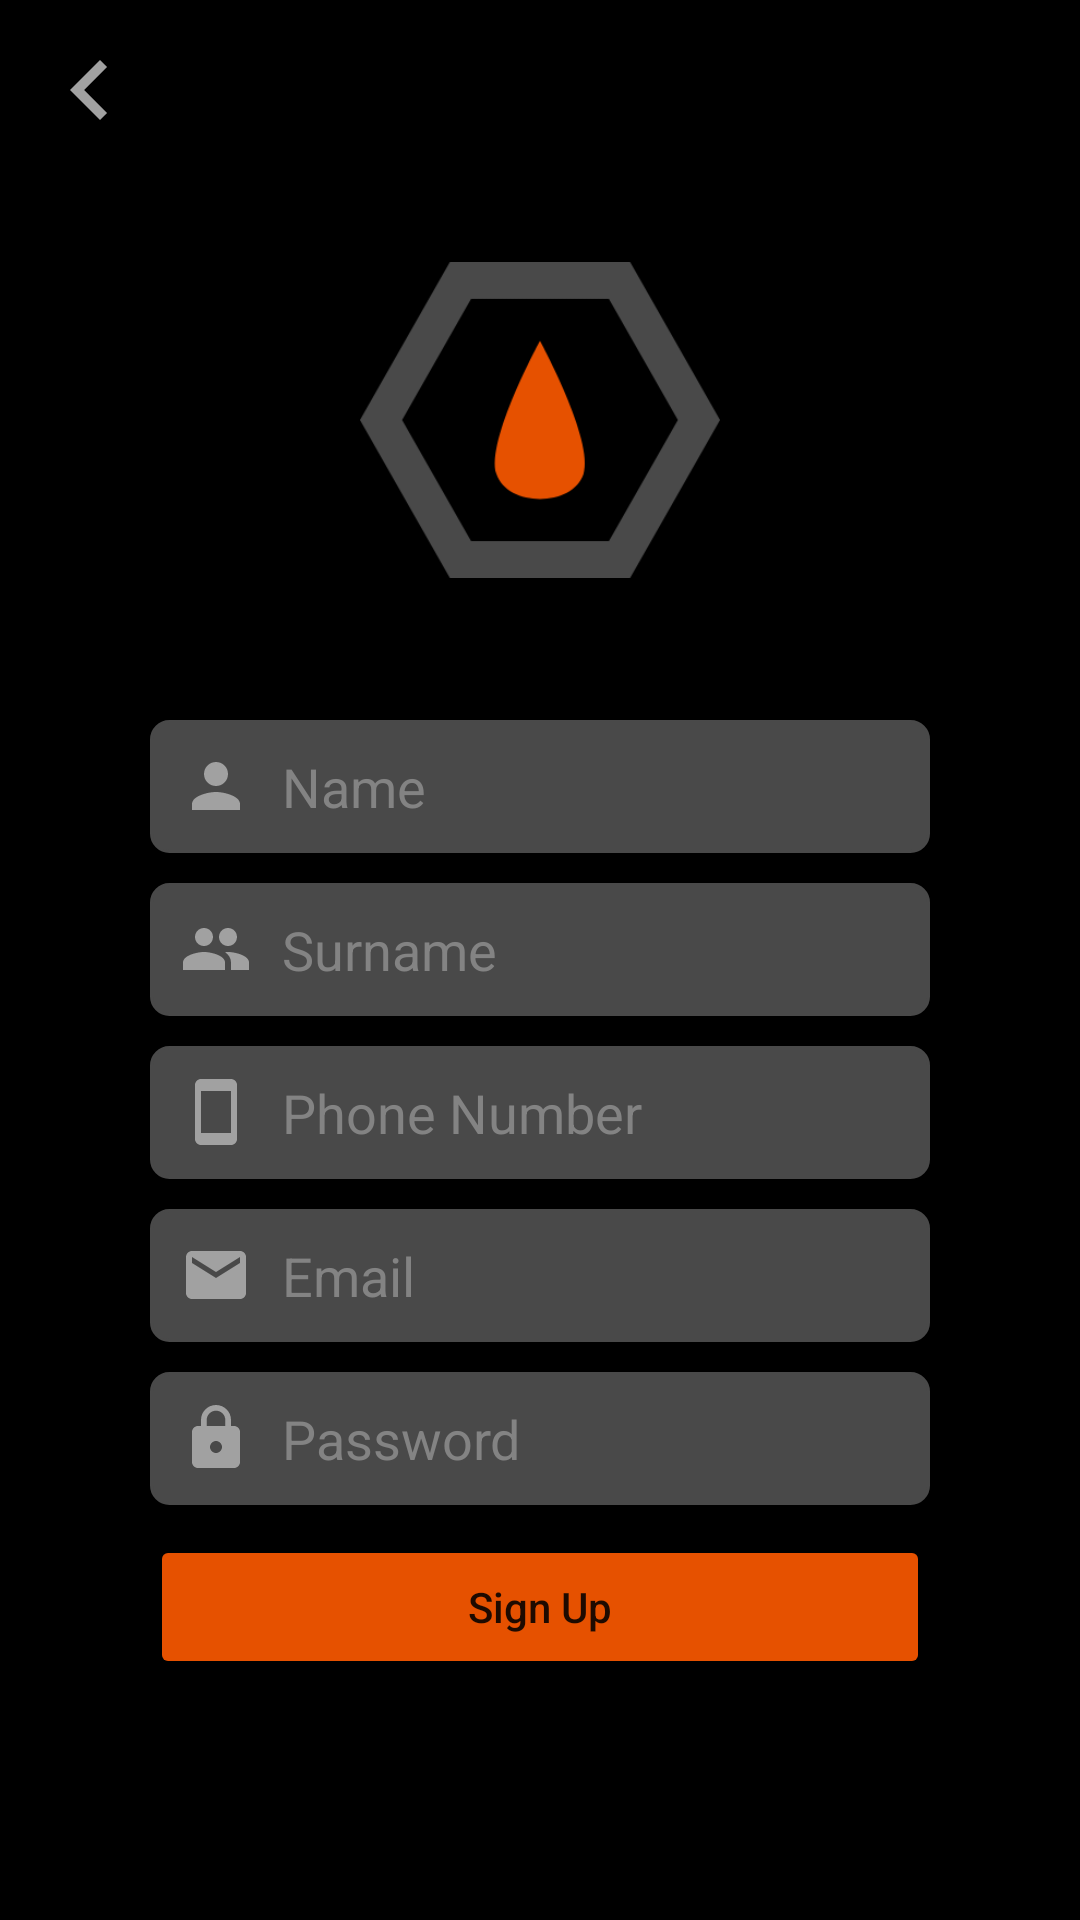

Point at icon controls on the screen. Image size 1080w x 1920h, points as point (x, y).
arrow left: point (88, 90)
